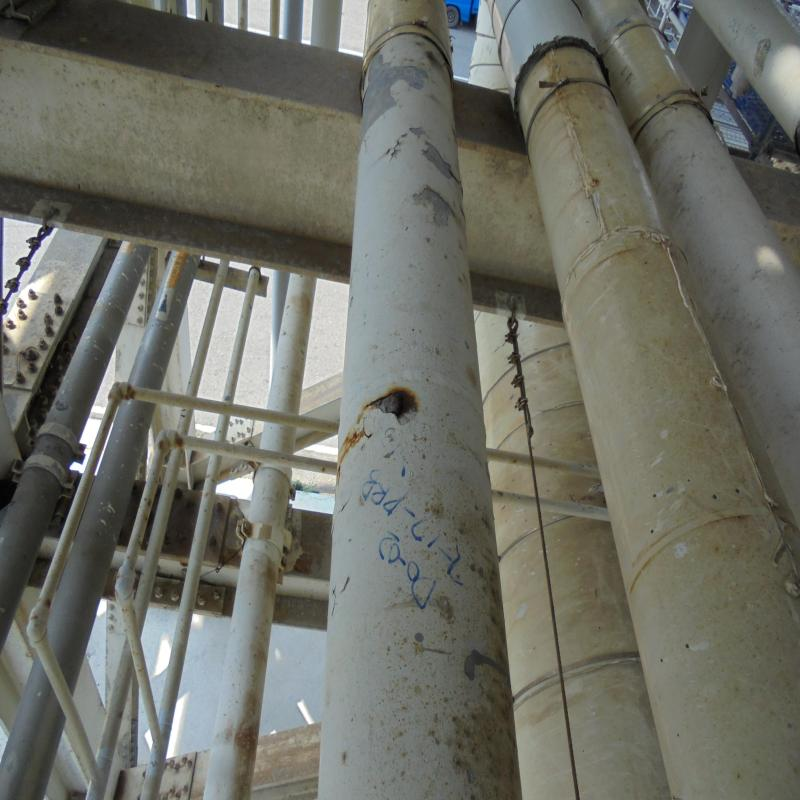corrosion: (368, 379, 429, 420)
